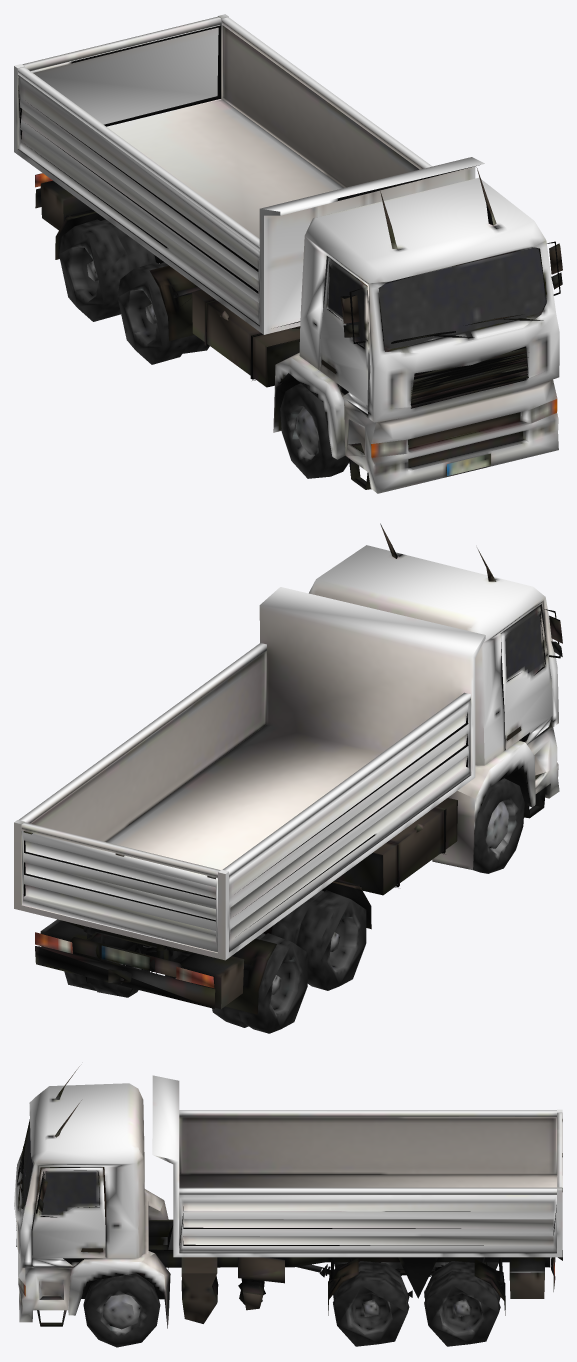
File: TruckMobile.fbx
3 renders of one model, top to bottom at view 1: azimuth 30°, elevation 25°; view 2: azimuth 150°, elevation 25°; view 3: azimuth 270°, elevation 25°, orthographic. The views are drawn at different scales.
Parts seen in each view (by area): view 1: MAN_Mobile_Truck; view 2: MAN_Mobile_Truck; view 3: MAN_Mobile_Truck.
Boxes of the visible parts, x1,y1,x2,y2 form: MAN_Mobile_Truck: (14, 14, 562, 493); MAN_Mobile_Truck: (14, 523, 562, 1033); MAN_Mobile_Truck: (14, 1066, 562, 1347).
Size of the model in its own units: 209 by 269 by 582.
1 material, 1 textured.
